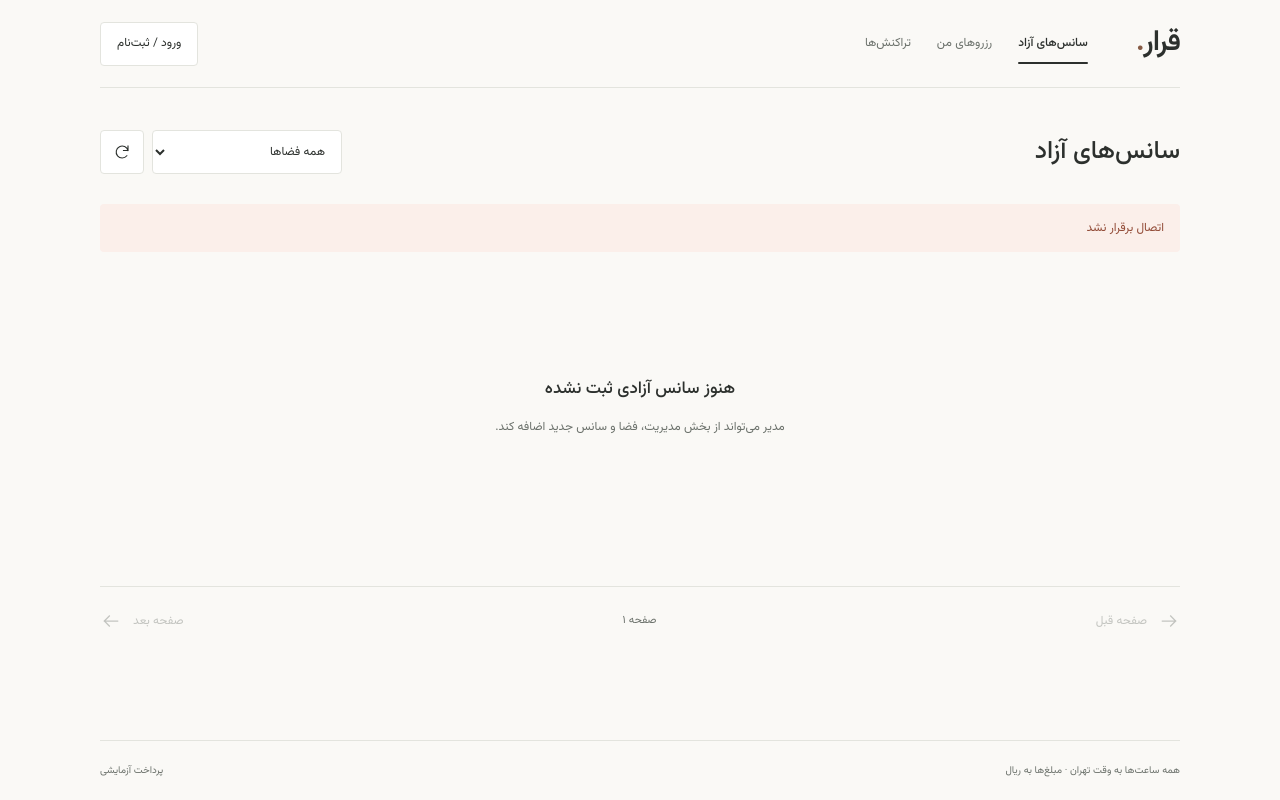
clears the load error after a successful retry
The width and height of the screenshot is (1280, 800).
Expected: the message reads "اتصال برقرار نشد", [1086,219,1164,237]
Click the button named "تازه‌سازی": (122, 152) [100,130,144,174]
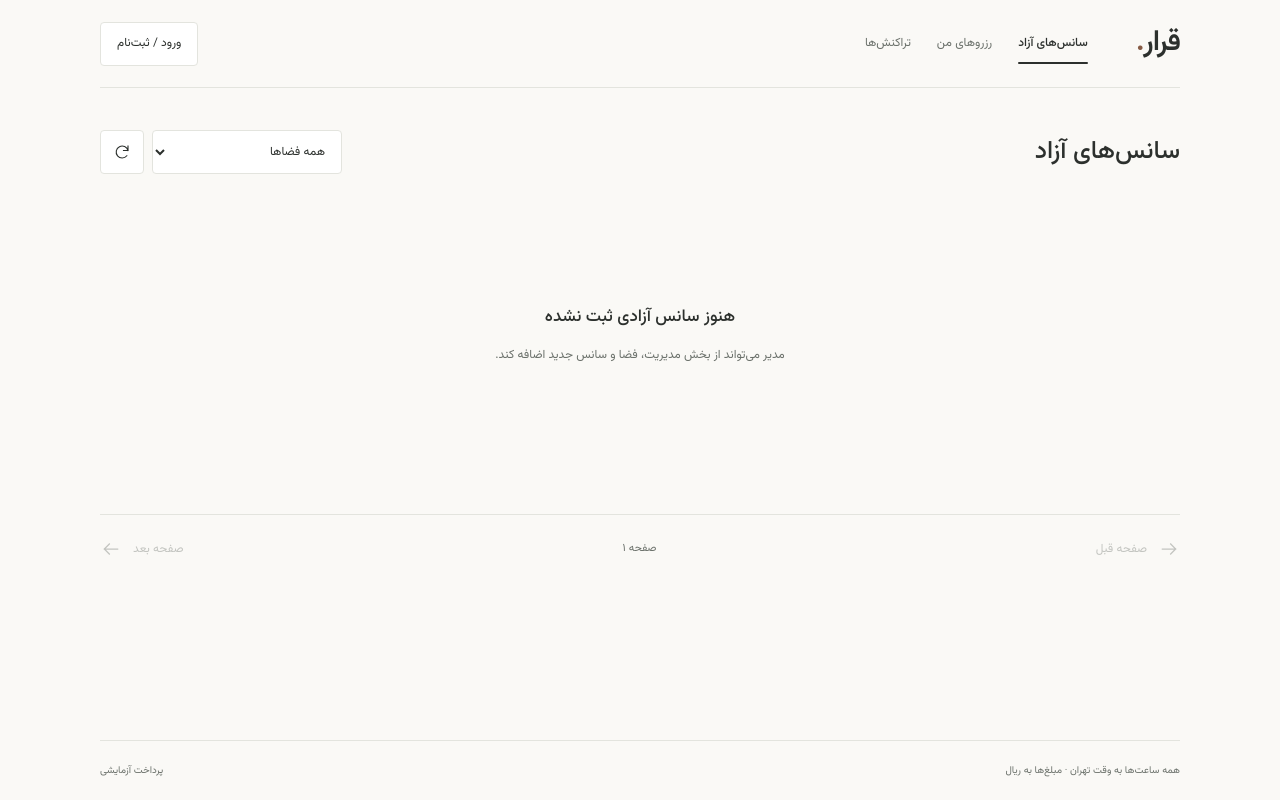
Expected: the heading "هنوز سانس آزادی ثبت نشده" is shown, [545,302,735,334]
Now the message "اتصال برقرار نشد" is gone
